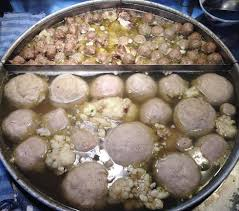bakso: (5, 16, 239, 205)
